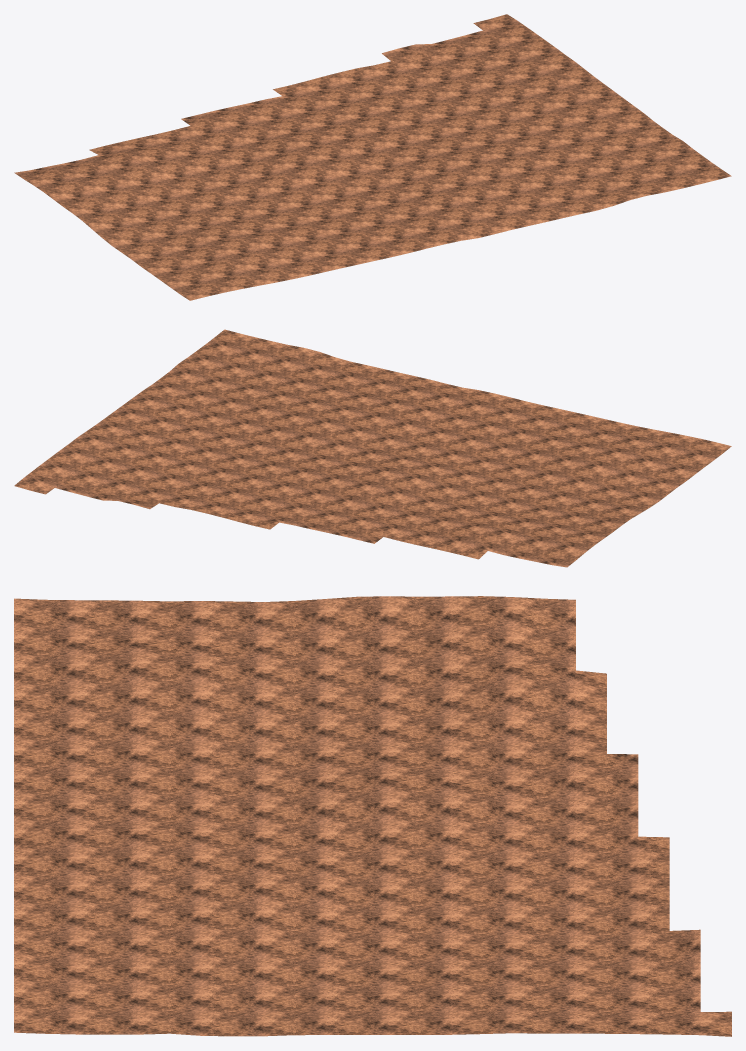
Rendered from terrain_10_05.dae.
The picture shows the model from 3 angles, top to bottom: view 1: azimuth 30°, elevation 25°; view 2: azimuth 150°, elevation 25°; view 3: azimuth 270°, elevation 25°; orthographic projection. The views are drawn at different scales.
Parts seen in each view (by area): view 1: terrain_10_05-node; view 2: terrain_10_05-node; view 3: terrain_10_05-node.
Boxes of the visible parts, box(x1,y1,x2,y2) form: terrain_10_05-node: box(14, 14, 731, 300); terrain_10_05-node: box(14, 329, 731, 567); terrain_10_05-node: box(14, 596, 731, 1036).
Bounding box in the file's own units: 128 × 92 × 3.07.
Materials: 1 (1 with a texture image).
